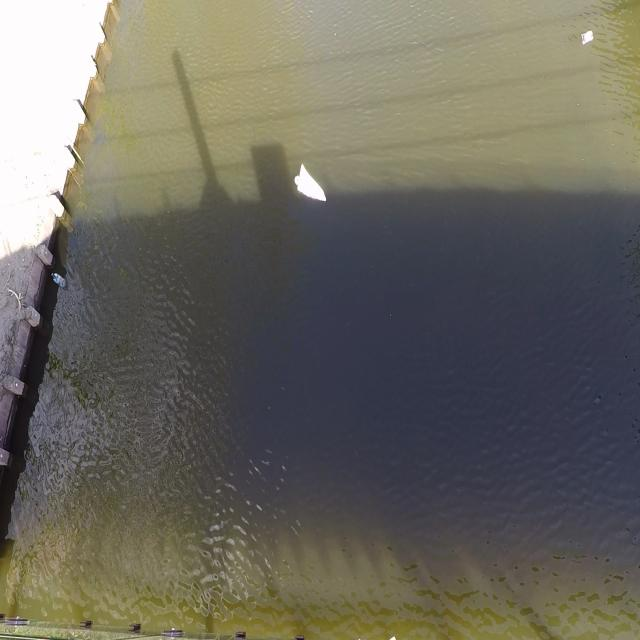Autre plastique: (288, 158, 333, 208)
